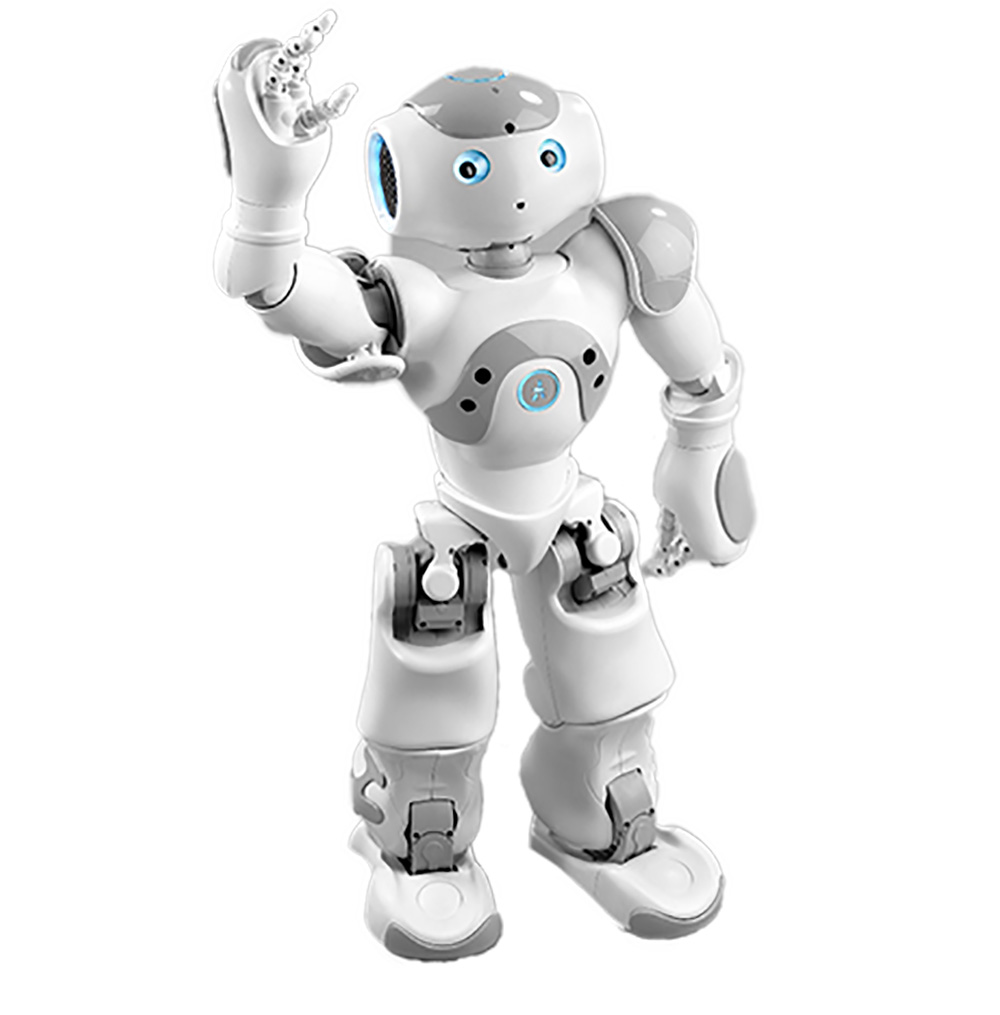nao: (184, 4, 823, 960)
